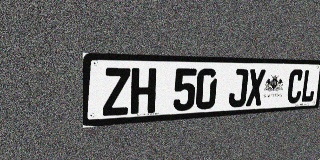0: (195, 68, 218, 110)
5: (173, 68, 197, 111)
C: (286, 69, 304, 104)
H: (130, 68, 157, 114)
J: (228, 69, 249, 108)
L: (300, 69, 317, 103)
X: (246, 69, 266, 106)
Z: (103, 68, 130, 116)
